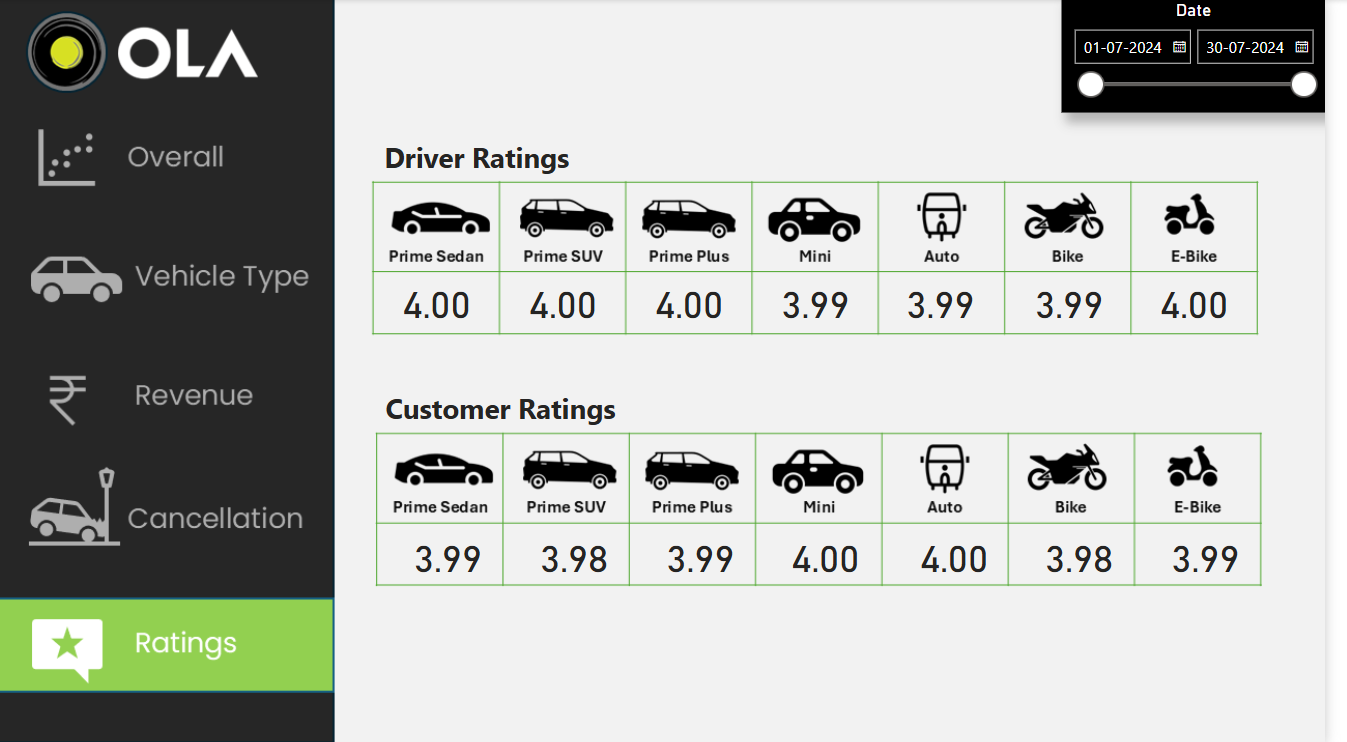

The page's visual inventory and layout, read from the dashboard file:
{"tool":"powerbi","page":{"name":"Ratings","canvas":[1280,720],"ordinal":4},"visuals":[{"type":"actionButton","box":[0,224,327,93],"z":0},{"type":"actionButton","box":[0,338.2,325,93.4],"z":1000},{"type":"actionButton","box":[0,444.7,325,93.4],"z":2000},{"type":"actionButton","box":[0,106.6,325,93.4],"z":3000},{"type":"card","fields":{"Values":["Avg(July.Driver_Ratings)"]},"box":[366.4,267.6,111.1,49.4],"z":4000},{"type":"card","fields":{"Values":["Avg(July.Driver_Ratings)"]},"box":[488.5,267.6,111.1,49.4],"z":5000},{"type":"card","fields":{"Values":["Avg(July.Driver_Ratings)"]},"box":[610.6,267.6,111.1,49.4],"z":6000},{"type":"card","fields":{"Values":["Avg(July.Driver_Ratings)"]},"box":[732.8,267.6,111.1,49.4],"z":7000},{"type":"card","fields":{"Values":["Avg(July.Driver_Ratings)"]},"box":[853.5,267.6,111.1,49.4],"z":8000},{"type":"card","fields":{"Values":["Avg(July.Driver_Ratings)"]},"box":[977,267.6,111.1,49.4],"z":9000},{"type":"card","fields":{"Values":["Avg(July.Driver_Ratings)"]},"box":[1097.8,267.6,111.1,49.4],"z":10000},{"type":"card","fields":{"Values":["Avg(July.Customer_Rating)"]},"box":[377.4,513.2,111.1,49.4],"z":11000},{"type":"textbox","box":[347.2,0,104.3,34.3],"z":12000},{"type":"textbox","box":[366.4,129,197.6,50.8],"z":13000},{"type":"textbox","box":[367.8,371.9,242.9,48],"z":14000},{"type":"card","fields":{"Values":["Avg(July.Customer_Rating)"]},"box":[499.5,513.2,111.1,49.4],"z":15000},{"type":"card","fields":{"Values":["Avg(July.Customer_Rating)"]},"box":[621.6,513.2,111.1,49.4],"z":16000},{"type":"card","fields":{"Values":["Avg(July.Customer_Rating)"]},"box":[742.4,513.2,111.1,49.4],"z":17000},{"type":"card","fields":{"Values":["Avg(July.Customer_Rating)"]},"box":[865.9,513.2,111.1,49.4],"z":18000},{"type":"card","fields":{"Values":["Avg(July.Customer_Rating)"]},"box":[986.6,513.2,111.1,49.4],"z":19000},{"type":"card","fields":{"Values":["Avg(July.Customer_Rating)"]},"box":[1108.8,513.2,111.1,49.4],"z":20000},{"type":"slicer","title":"Date","fields":{"Values":["July (2).Date"]},"box":[1025,0,255.2,109.8],"z":21000}]}

Visuals, with their boxes in screenshot pixels (x1, y1, x2, y2), scaled from the page's 1280x720 canvas onto the 1347x742 screenshot:
actionButton: left=0, top=231, right=344, bottom=327
actionButton: left=0, top=349, right=342, bottom=445
actionButton: left=0, top=458, right=342, bottom=555
actionButton: left=0, top=110, right=342, bottom=206
card - Avg(July.Driver_Ratings): left=386, top=276, right=502, bottom=327
card - Avg(July.Driver_Ratings): left=514, top=276, right=631, bottom=327
card - Avg(July.Driver_Ratings): left=643, top=276, right=759, bottom=327
card - Avg(July.Driver_Ratings): left=771, top=276, right=888, bottom=327
card - Avg(July.Driver_Ratings): left=898, top=276, right=1015, bottom=327
card - Avg(July.Driver_Ratings): left=1028, top=276, right=1145, bottom=327
card - Avg(July.Driver_Ratings): left=1155, top=276, right=1272, bottom=327
card - Avg(July.Customer_Rating): left=397, top=529, right=514, bottom=580
textbox: left=365, top=0, right=475, bottom=35
textbox: left=386, top=133, right=594, bottom=185
textbox: left=387, top=383, right=643, bottom=433
card - Avg(July.Customer_Rating): left=526, top=529, right=643, bottom=580
card - Avg(July.Customer_Rating): left=654, top=529, right=771, bottom=580
card - Avg(July.Customer_Rating): left=781, top=529, right=898, bottom=580
card - Avg(July.Customer_Rating): left=911, top=529, right=1028, bottom=580
card - Avg(July.Customer_Rating): left=1038, top=529, right=1155, bottom=580
card - Avg(July.Customer_Rating): left=1167, top=529, right=1284, bottom=580
"Date" slicer: left=1079, top=0, right=1346, bottom=113
